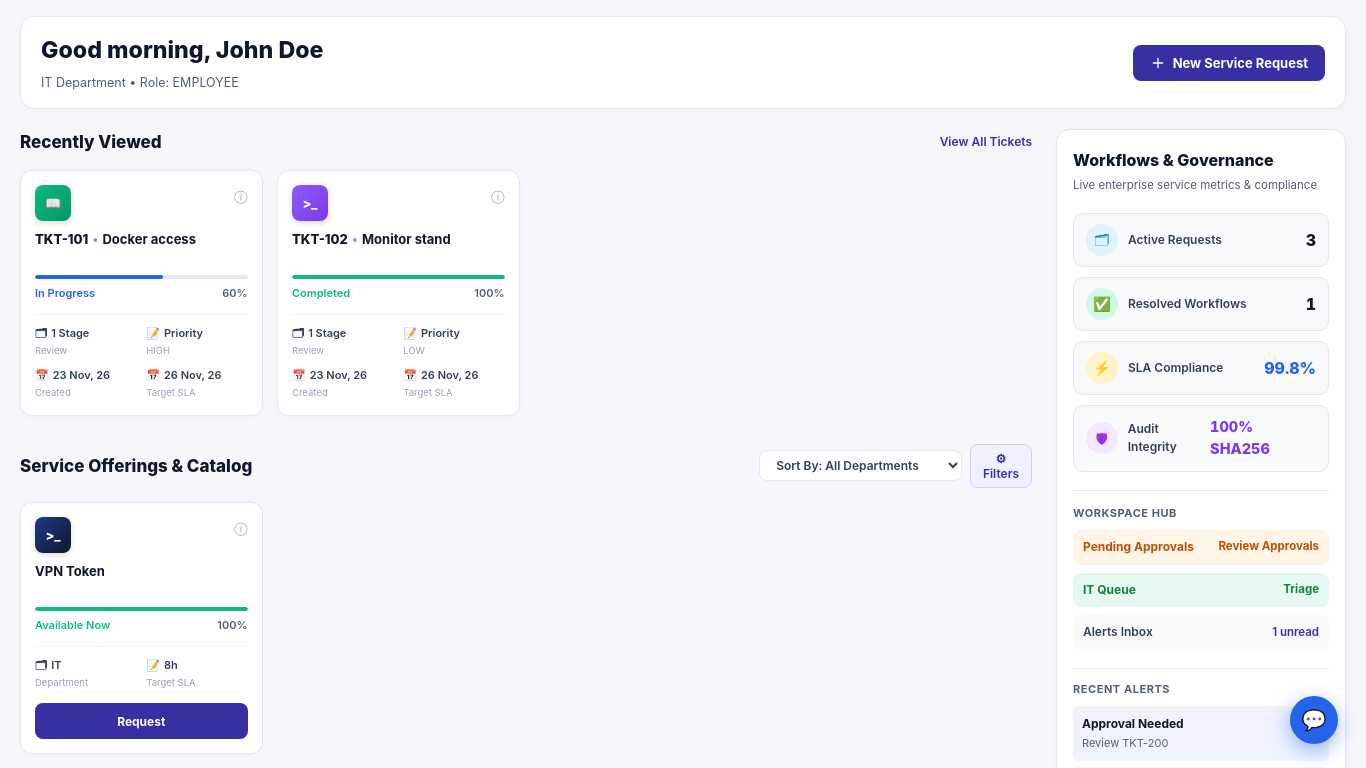
Scenario: P9.6.1 Critical Frontend Workflow & Branch Coverage Suite › EmployeeDashboard unauthenticated & role-aware authenticated states › loads KPIs, role shortcuts, recent tickets, featured services & notification previews
The width and height of the screenshot is (1366, 768).
Check: the text "TKT-101" is shown, box x1=35 y1=231 x2=88 y2=247
Check: the text "Pending Approvals" is shown, box x1=1083 y1=538 x2=1194 y2=556
Quick Request opens CreateTicketModal
Click the button "Request" at (141, 721), box x1=35 y1=703 x2=248 y2=739
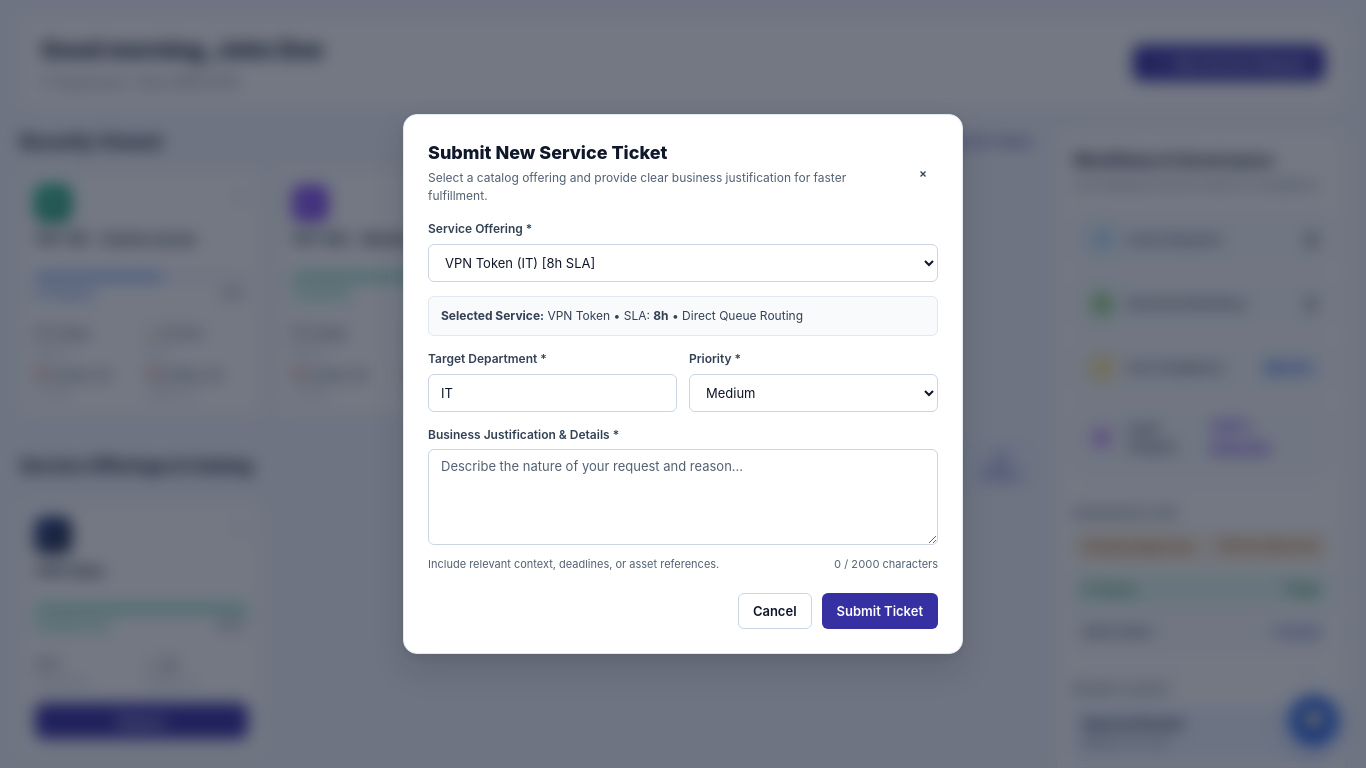
Check: the dialog is shown
